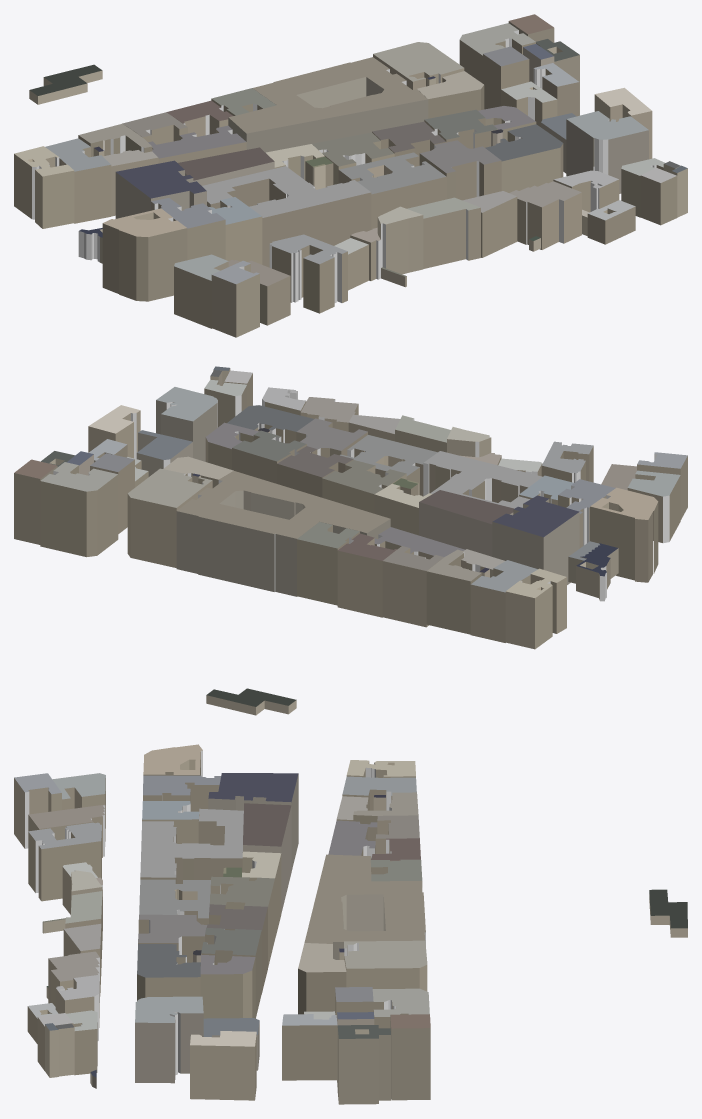
The picture shows the model from 3 angles, top to bottom: view 1: azimuth 30°, elevation 25°; view 2: azimuth 150°, elevation 25°; view 3: azimuth 270°, elevation 25°; orthographic projection. The views are drawn at different scales.
Parts seen in each view (by area): view 1: tuile; view 2: tuile; view 3: tuile.
Part boxes in pixels (bbox=[...]): tuile: bbox=[14, 14, 687, 337]; tuile: bbox=[14, 366, 687, 715]; tuile: bbox=[14, 744, 687, 1104].
Bounding box in the file's own units: 265 × 35.52 × 266.
